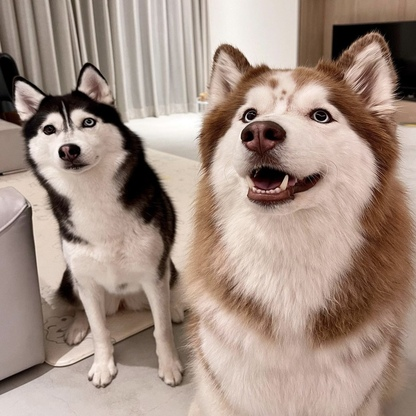husky: (189, 27, 414, 416), (6, 60, 187, 391)
